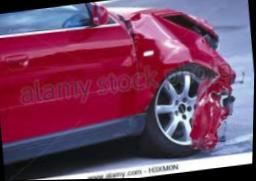Bonnet: (106, 6, 217, 42)
Fender: (129, 18, 228, 150)
